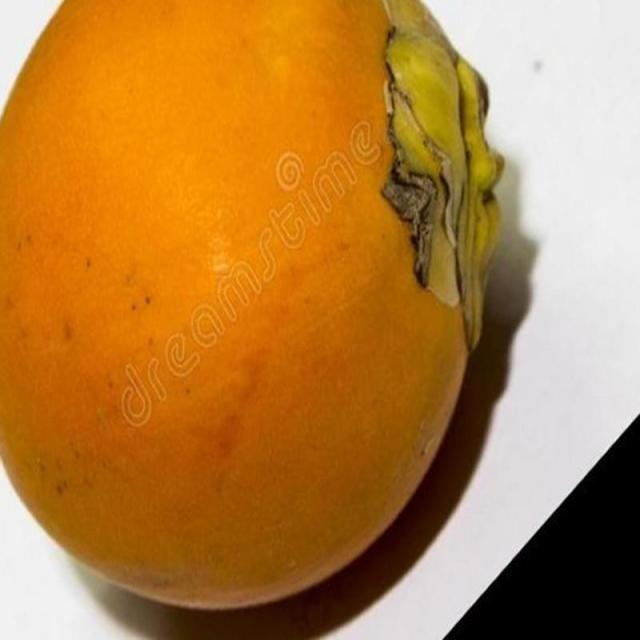good: (0, 0, 504, 616)
